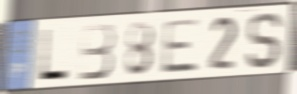2: (207, 15, 239, 71)
8: (124, 20, 155, 78)
B: (78, 22, 117, 83)
E: (160, 16, 202, 76)
L: (37, 26, 71, 82)
S: (245, 10, 285, 71)
